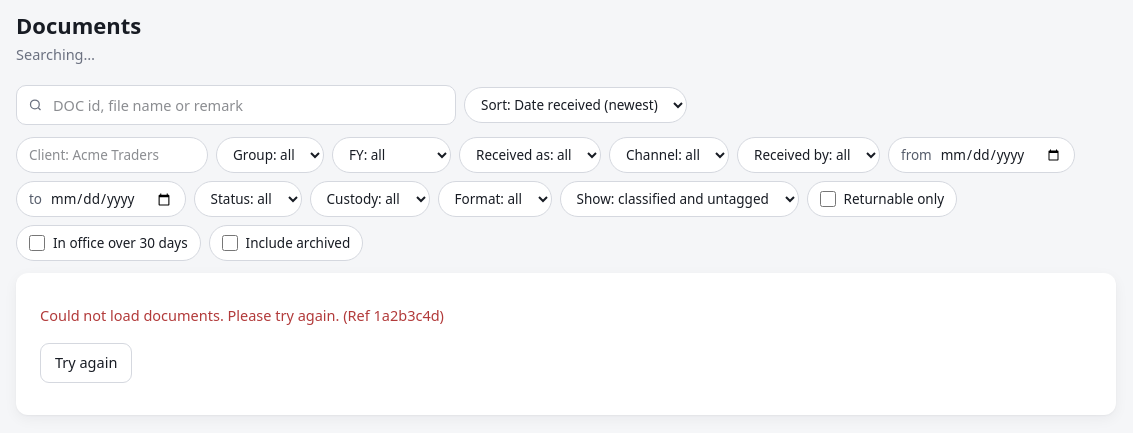
it: SearchView › an error shows the message and Try again runs the search again (AC-9)
Expected: the message shows "Could not load documents", [40,305,444,325]
Click the button "Try again".
click(86, 363)  # box [40,343,132,383]
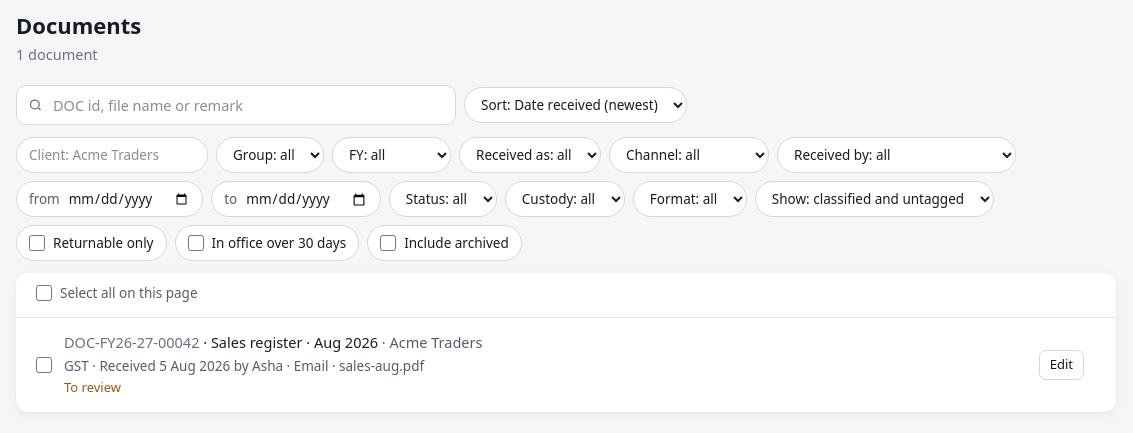
Now the list named "Documents" is shown, box [16,318,1116,412]
